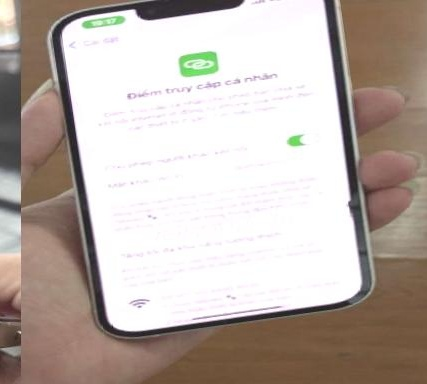screen_defect: (333, 193, 371, 233)
